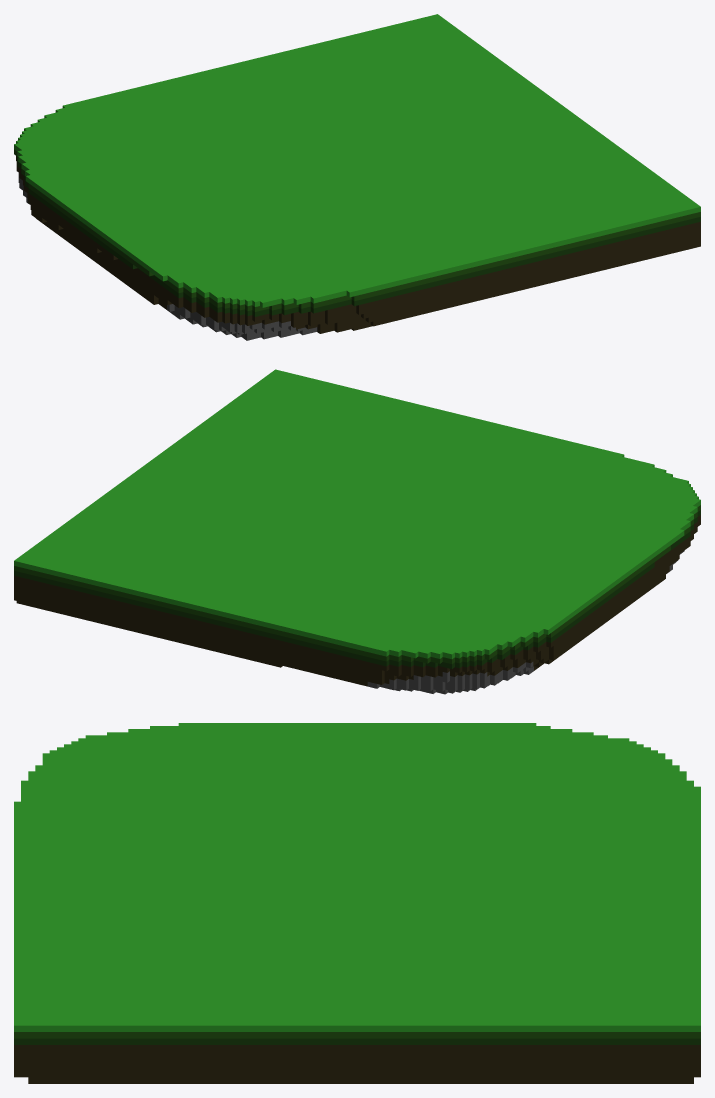
File: IslandEnd.obj
3 renders of one model, top to bottom at view 1: azimuth 30°, elevation 25°; view 2: azimuth 150°, elevation 25°; view 3: azimuth 270°, elevation 25°, orthographic. The views are drawn at different scales.
Visible parts, largest first — view 1: IslandEnd; view 2: IslandEnd; view 3: IslandEnd.
Part boxes in pixels (left/top/right/bottom): IslandEnd: left=14, top=14, right=700, bottom=340; IslandEnd: left=14, top=369, right=700, bottom=694; IslandEnd: left=14, top=723, right=700, bottom=1083.
Bounding box in the file's own units: 15 × 1.35 × 14.4.
1 material, 1 textured.
